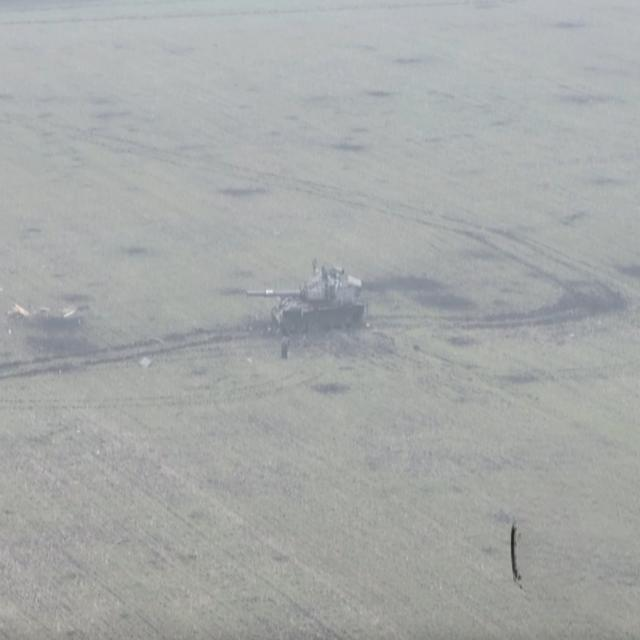MBT: (245, 256, 369, 342)
